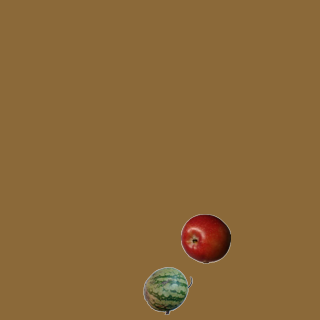Apple Braeburn: (180, 213, 230, 263)
Watermelon: (142, 265, 192, 315)
